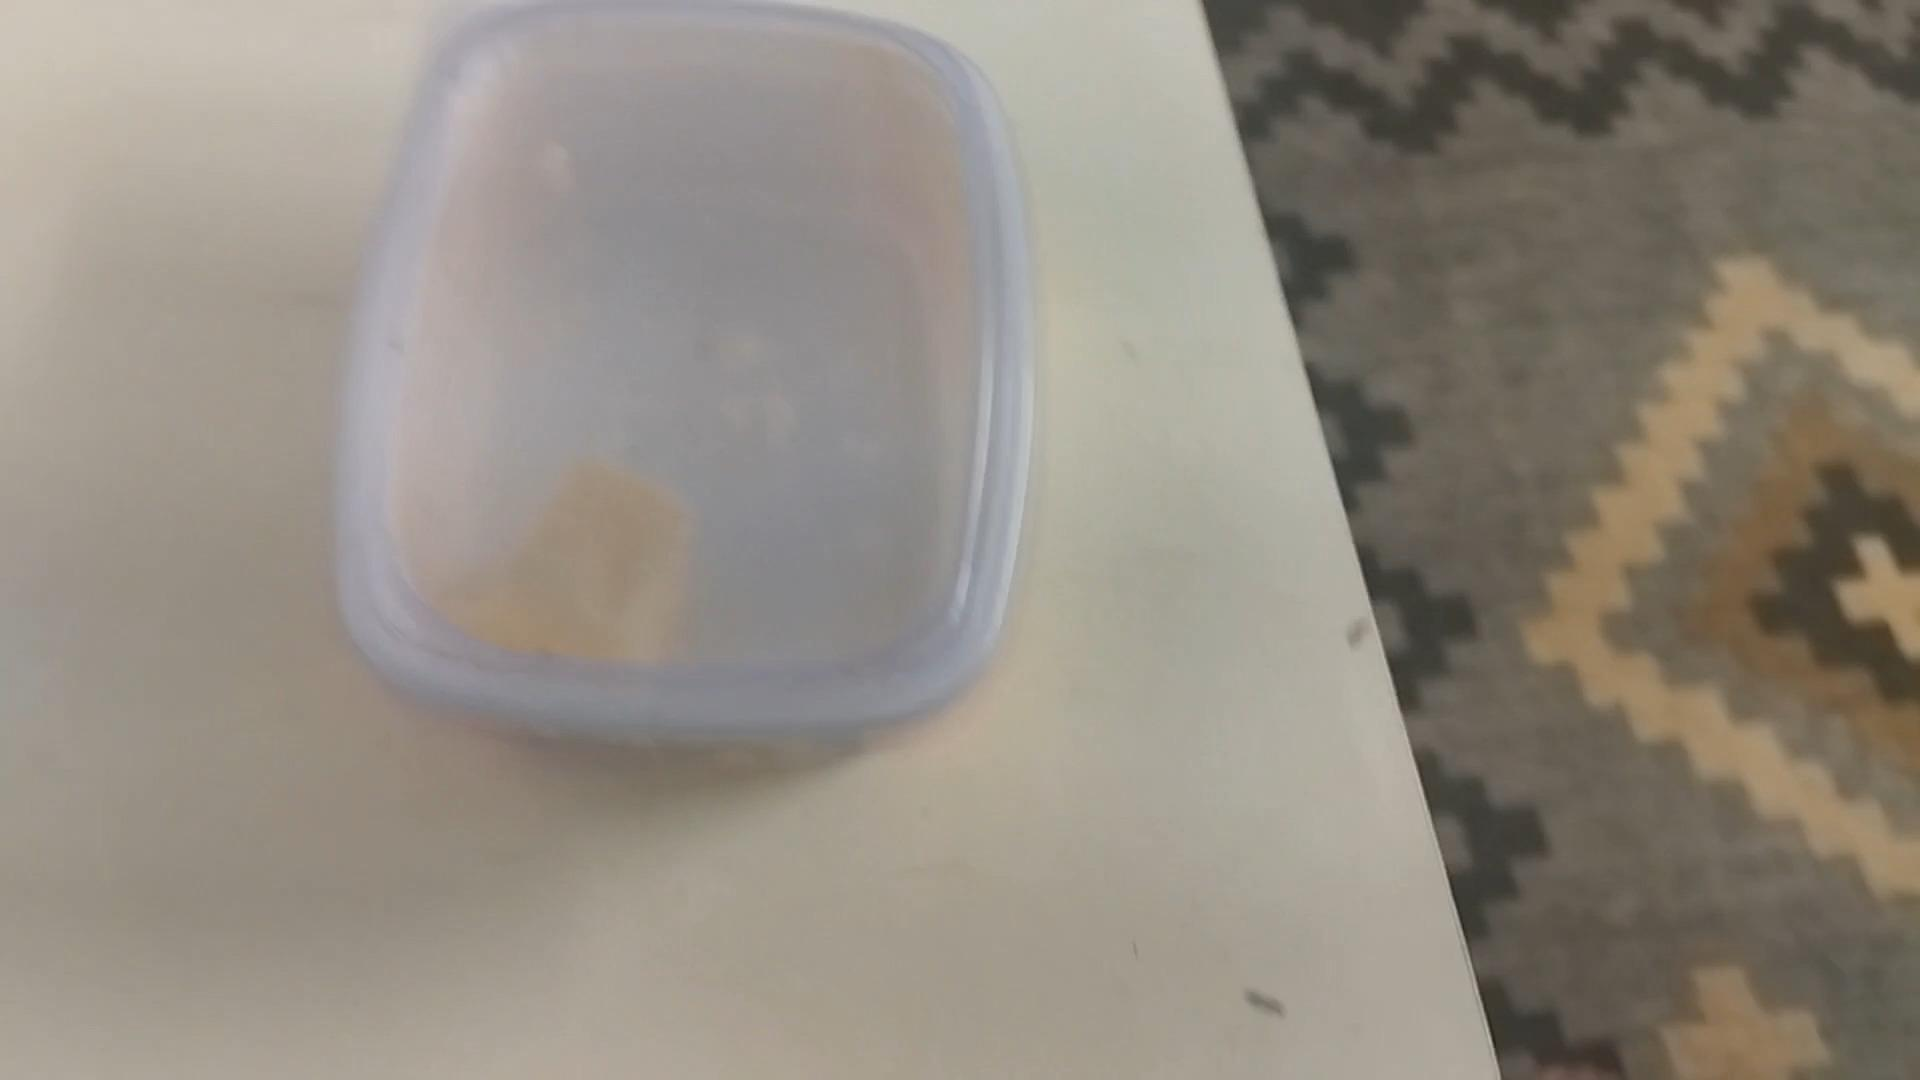butter: (343, 15, 1018, 749)
